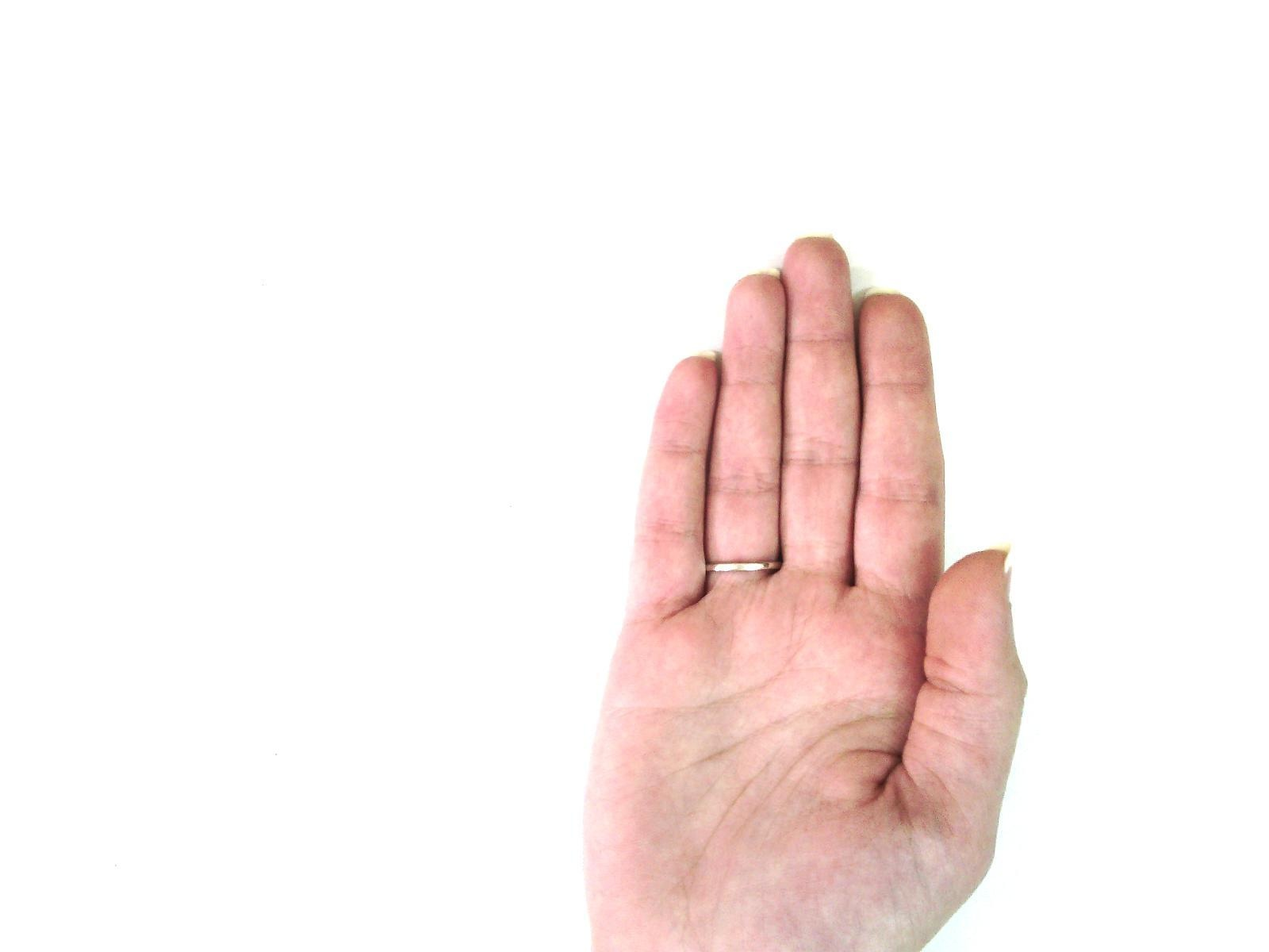open_palm: (579, 235, 1030, 951)
